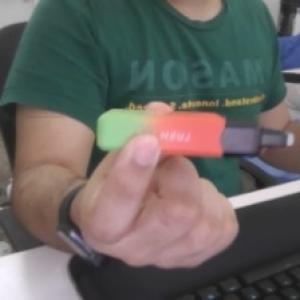Swift-E-Ciggirate: (93, 107, 298, 161)
